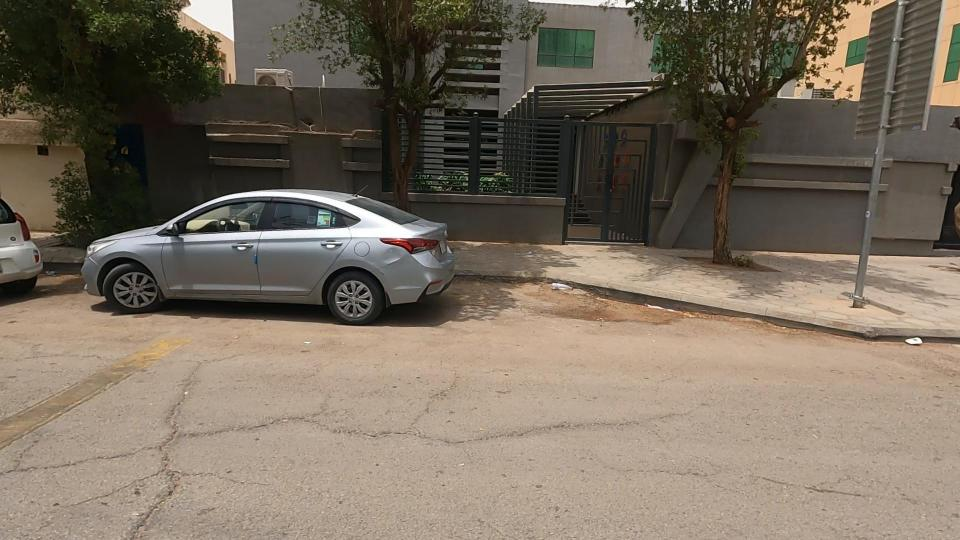POTHOLES: (61, 336, 272, 540), (508, 256, 658, 364)
